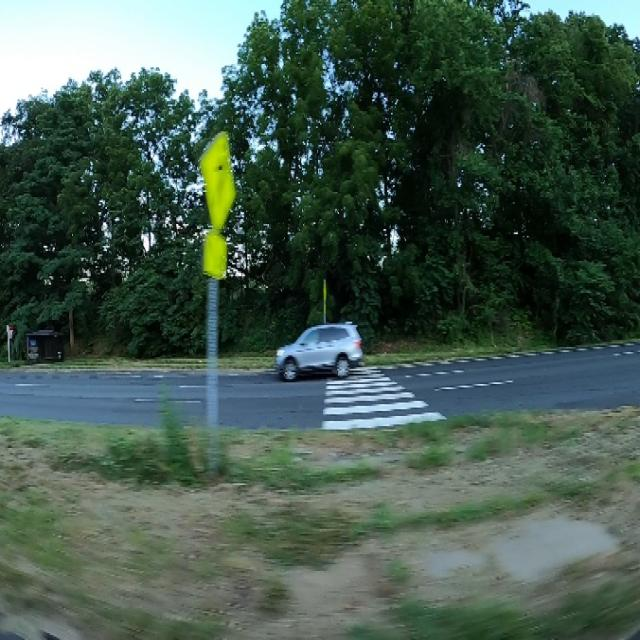cars: (272, 318, 362, 380)
